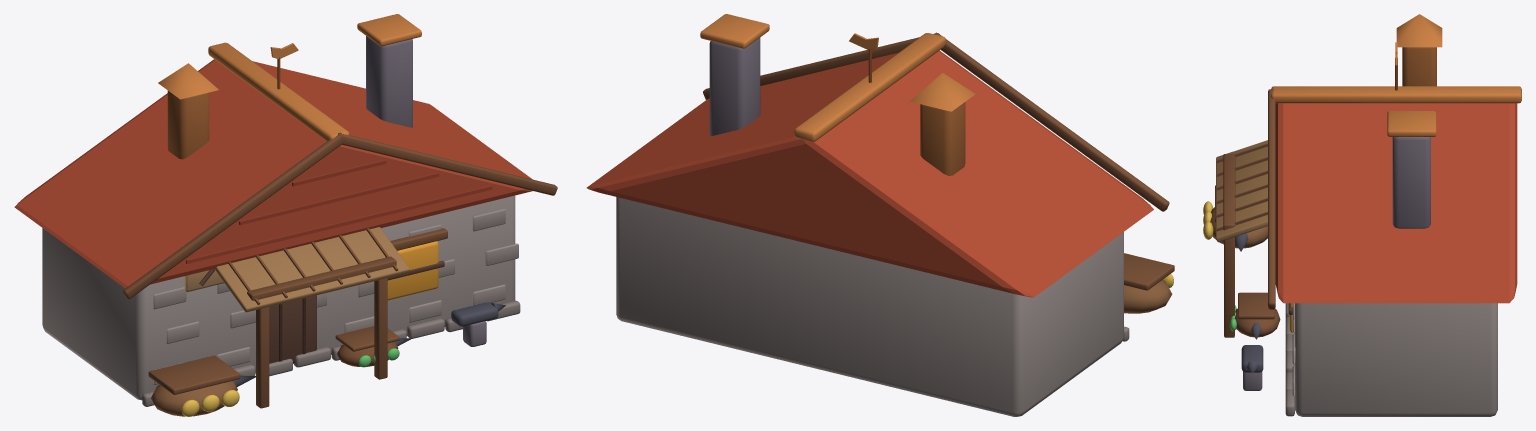
Rendered from forge2.glb.
3 renders of one model, left to right at view 1: azimuth 30°, elevation 25°; view 2: azimuth 150°, elevation 25°; view 3: azimuth 270°, elevation 25°, orthographic. The views are drawn at different scales.
Parts seen in each view (by area): view 1: base, oak-porch, copper-trim, royal-bellows; view 2: base, copper-trim, royal-bellows; view 3: base, copper-trim, oak-porch, royal-bellows.
Part boxes in pixels (bbox=[...]): base: bbox=[14, 36, 557, 406]; oak-porch: bbox=[214, 227, 409, 408]; copper-trim: bbox=[158, 14, 421, 159]; royal-bellows: bbox=[148, 355, 255, 416]; base: bbox=[586, 32, 1169, 416]; copper-trim: bbox=[700, 14, 975, 175]; royal-bellows: bbox=[1124, 253, 1174, 313]; base: bbox=[1229, 89, 1517, 416]; copper-trim: bbox=[1271, 14, 1521, 136]; oak-porch: bbox=[1216, 140, 1267, 337]; royal-bellows: bbox=[1203, 185, 1267, 251].
Bounding box in the file's own units: 6.58 × 4.03 × 4.14.
